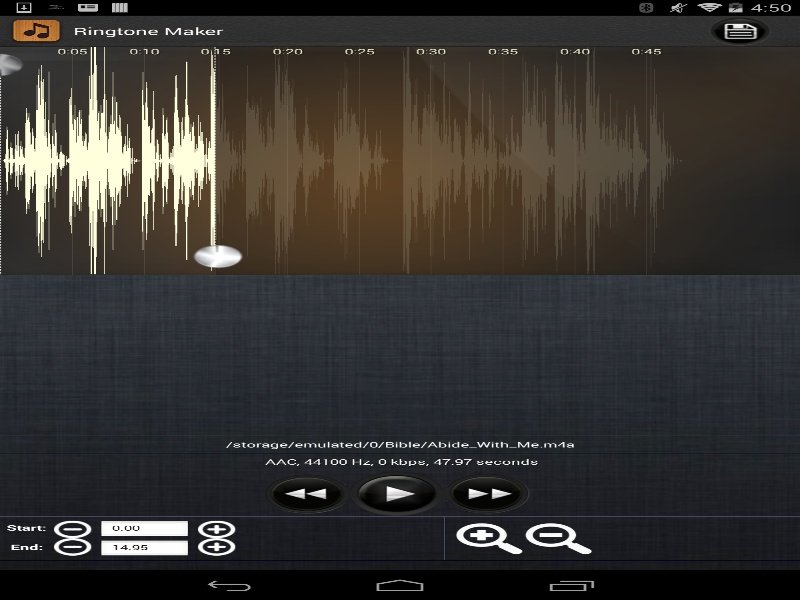Button: (349, 471, 444, 515), (264, 473, 349, 513), (444, 473, 529, 513), (454, 522, 524, 555), (524, 522, 593, 555), (706, 15, 773, 46), (54, 520, 91, 538), (198, 520, 235, 538), (54, 538, 91, 555), (198, 538, 235, 555)
Input: (98, 539, 191, 559), (98, 520, 191, 539)
